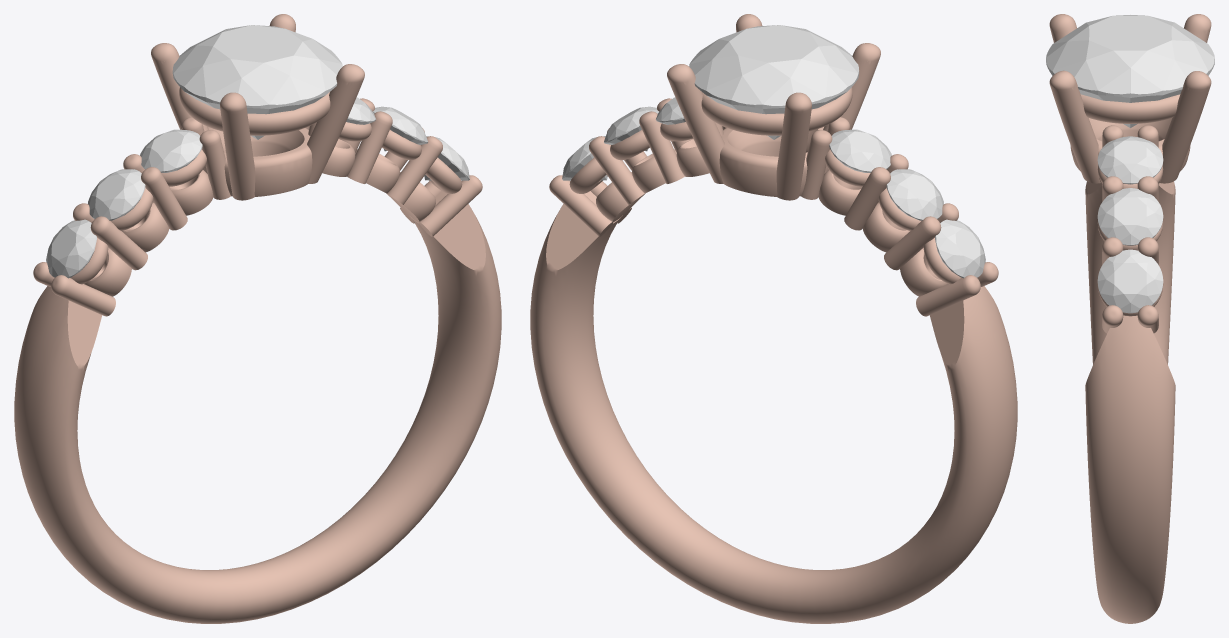
File: diamond-round-rosegold-4prong-taperedband-3stone.glb
3 views of the same model, side by side, from view 1: azimuth 30°, elevation 25°; view 2: azimuth 150°, elevation 25°; view 3: azimuth 270°, elevation 25° (orthographic).
Visible parts, largest first — view 1: metal, stone, side.002, side.001, side, side.004, side.005; view 2: metal, stone, side.002, side.001, side, side.004, side.005; view 3: metal, stone, side.005, side.004, side.003.
Part boxes in pixels (<box>): metal: <box>14,14,501,623</box>; stone: <box>172,25,342,139</box>; side.002: <box>46,219,96,278</box>; side.001: <box>88,169,145,220</box>; side: <box>140,129,202,172</box>; side.004: <box>373,106,427,151</box>; side.005: <box>424,136,469,180</box>; metal: <box>530,14,1017,623</box>; stone: <box>689,25,859,139</box>; side.002: <box>935,219,985,278</box>; side.001: <box>886,169,943,220</box>; side: <box>829,129,891,172</box>; side.004: <box>604,106,658,151</box>; side.005: <box>562,136,607,180</box>; metal: <box>1049,14,1211,623</box>; stone: <box>1046,15,1214,127</box>; side.005: <box>1097,249,1163,313</box>; side.004: <box>1097,188,1163,245</box>; side.003: <box>1097,136,1163,184</box>.
Size of the model in its own units: 20.5 by 23.8 by 6.44.
